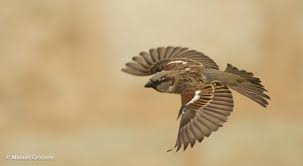hsparrow: (112, 39, 273, 158)
